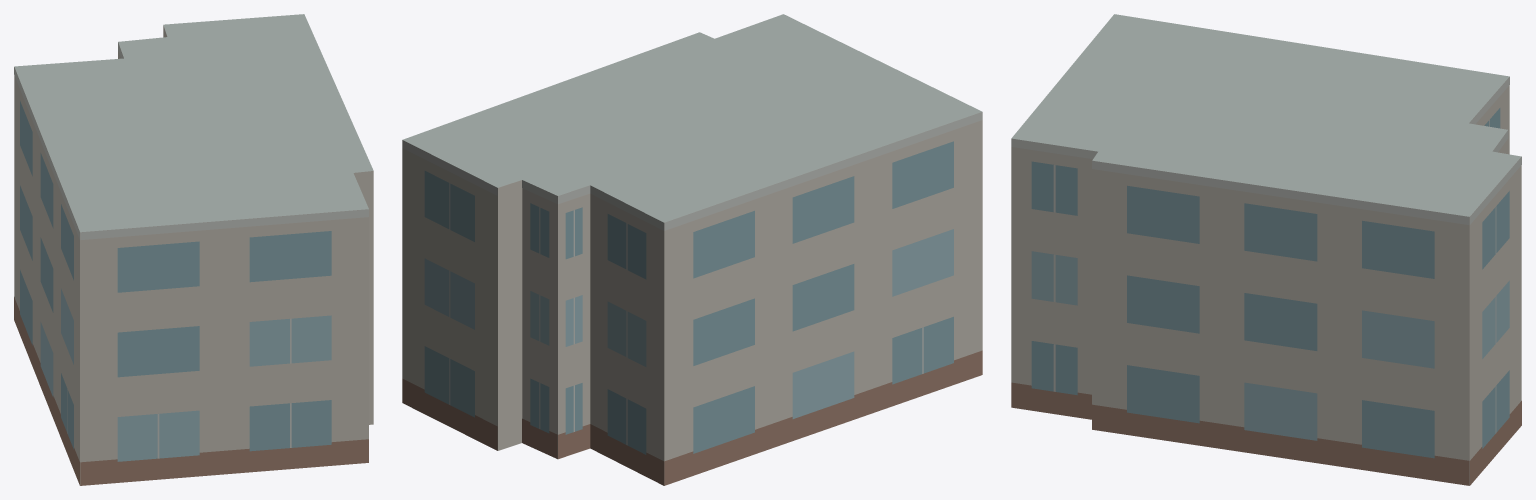
Rendered from survey-upis-32956545.glb.
3 renders of one model, left to right at view 1: azimuth 30°, elevation 25°; view 2: azimuth 150°, elevation 25°; view 3: azimuth 270°, elevation 25°, orthographic. The views are drawn at different scales.
Parts seen in each view (by area): view 1: survey-upis-32956545.tmp; view 2: survey-upis-32956545.tmp; view 3: survey-upis-32956545.tmp.
Boxes of the visible parts, x1,y1,x2,y2 form: survey-upis-32956545.tmp: [14, 14, 373, 485]; survey-upis-32956545.tmp: [402, 14, 982, 485]; survey-upis-32956545.tmp: [1011, 14, 1521, 485].
Size of the model in its own units: 12.62 by 7.8 by 13.42.
